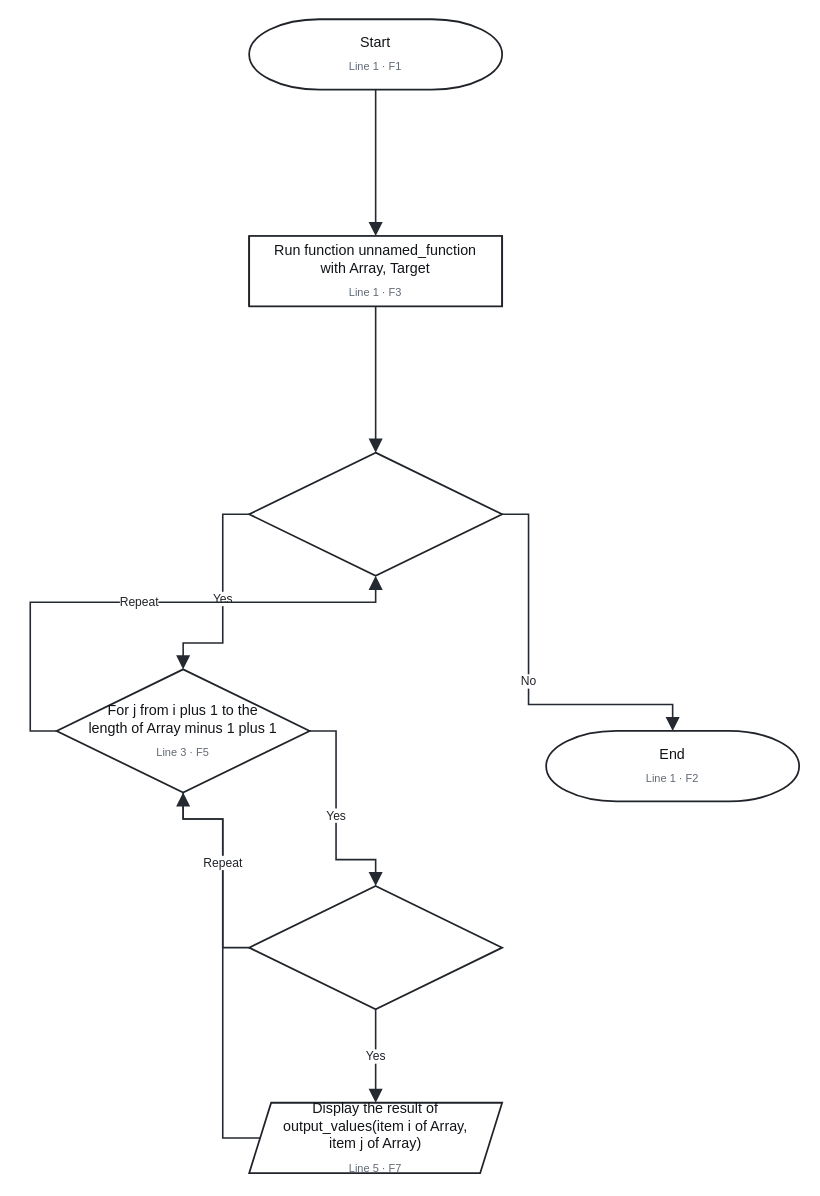
Some shapes in this 820 by 1196 pixel diagram are drawn without their labels. Each missing label, with the centre of its shape:
"For i from 0 to the length of Array minus 2 plus 1 Line 2 · F4" goes at point 375,513.
"Item i of Array plus item j of Array is equal to Target? Line 4 · F6" goes at point 375,947.
